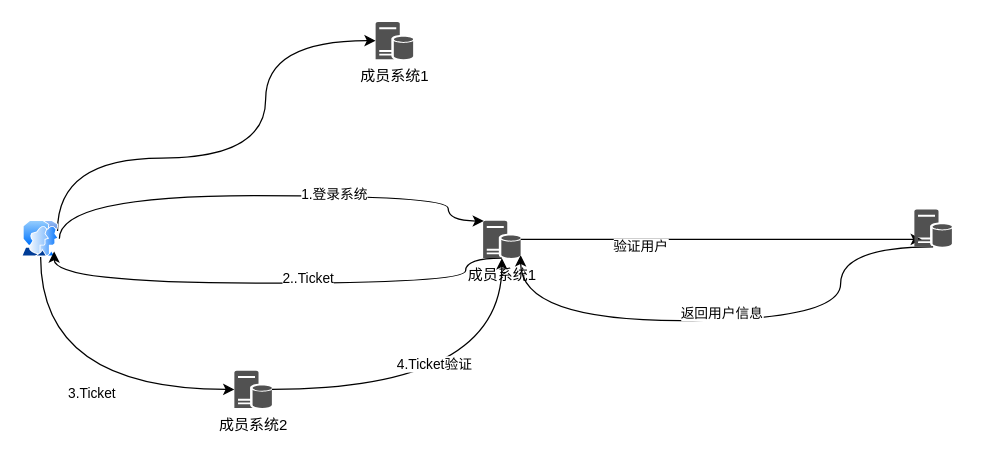
The diagram is 991 pixels wide and 455 high, and some of its shapes have lost their labels. The shapes that lost their labels are listed below. From the top down, each one's centre as x and y in pixels, then its label:
point 40,238: 用户
point 932,227: 用户数据库
